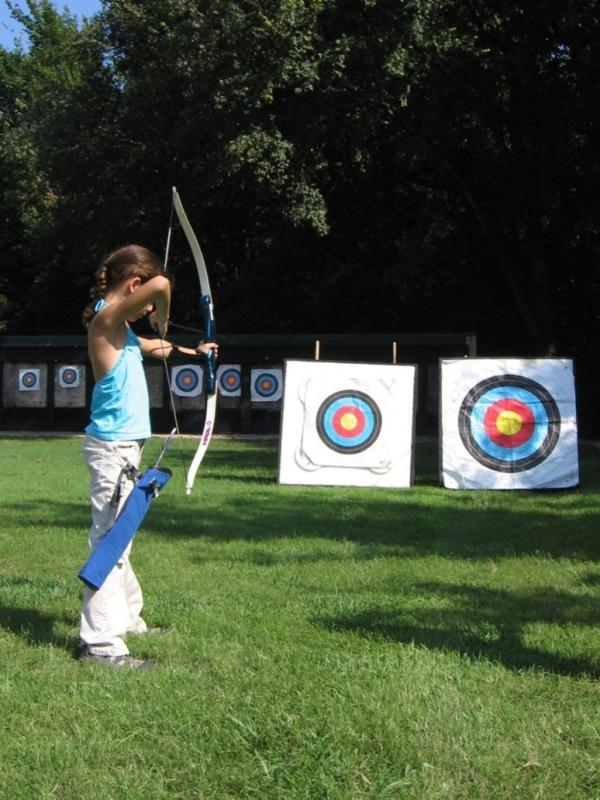person: (77, 245, 219, 679)
